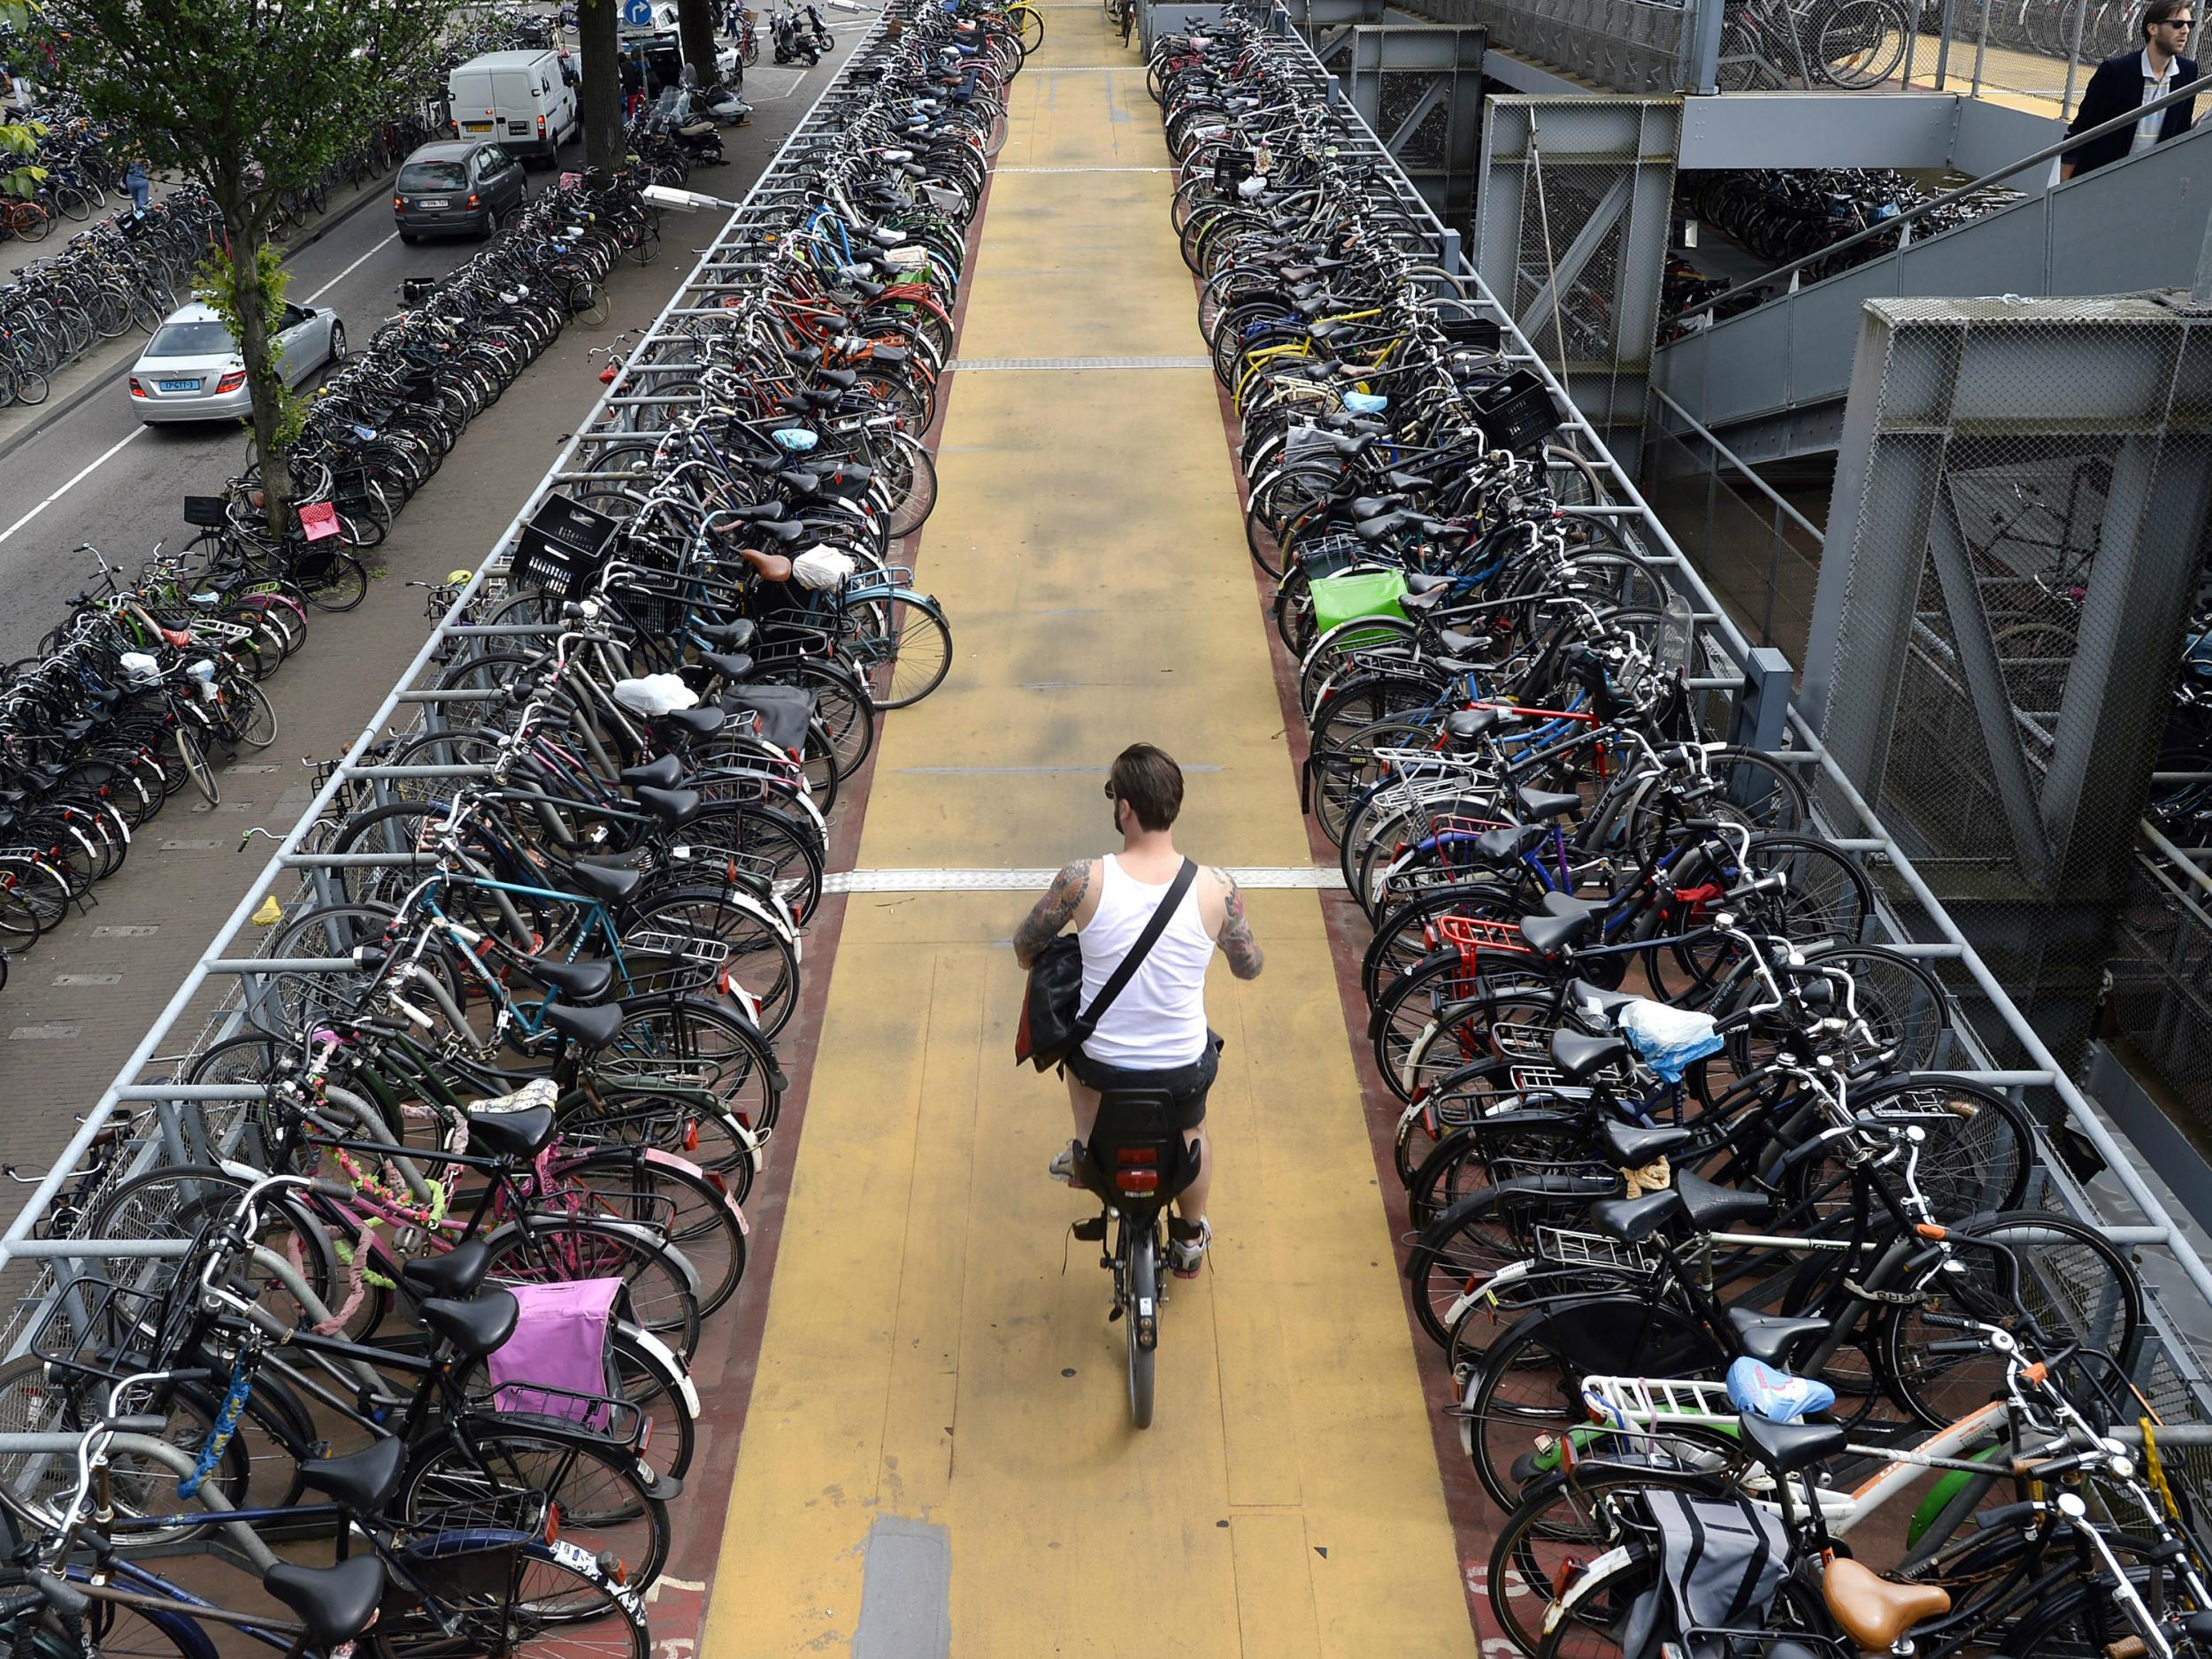commuter: (1012, 748, 1270, 1441)
